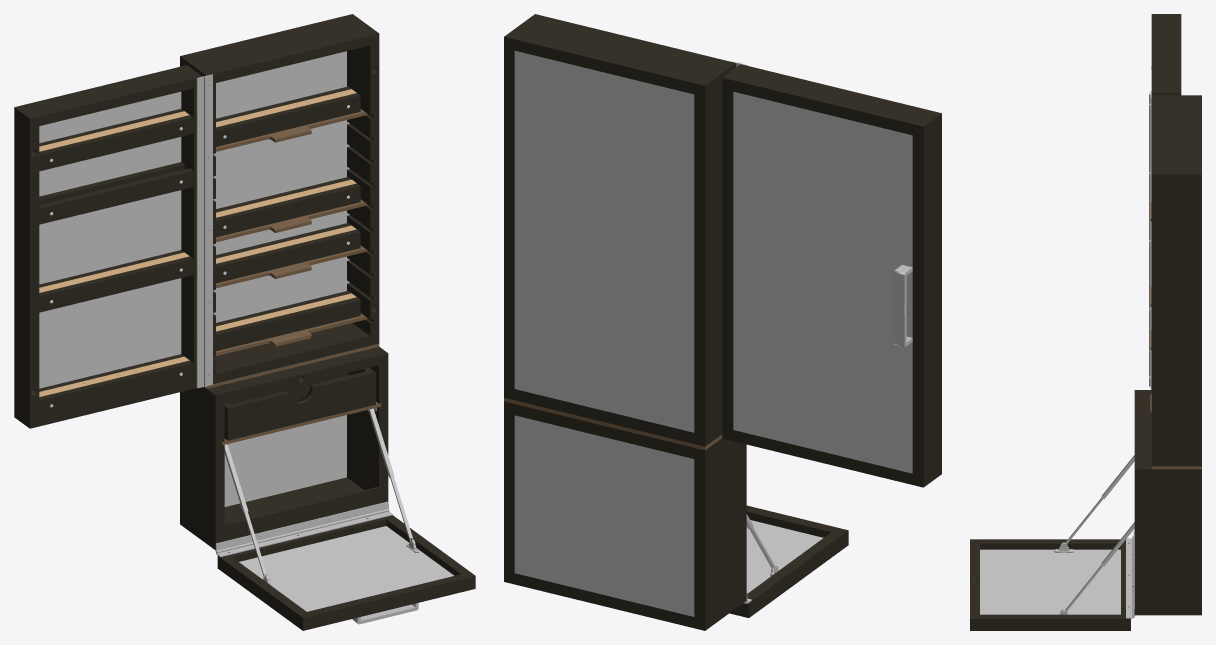
The model's file is Opened locker.fbx.
3 renders of one model, left to right at view 1: azimuth 30°, elevation 25°; view 2: azimuth 150°, elevation 25°; view 3: azimuth 270°, elevation 25°, orthographic. The views are drawn at different scales.
Visible parts, largest first — view 1: Opened locker; view 2: Opened locker; view 3: Opened locker.
Part boxes in pixels (x1,y1,x2,y2): Opened locker: (14, 14, 475, 630); Opened locker: (504, 14, 941, 630); Opened locker: (970, 14, 1201, 630).
Bounding box in the file's own units: 138 × 188 × 84.45.
